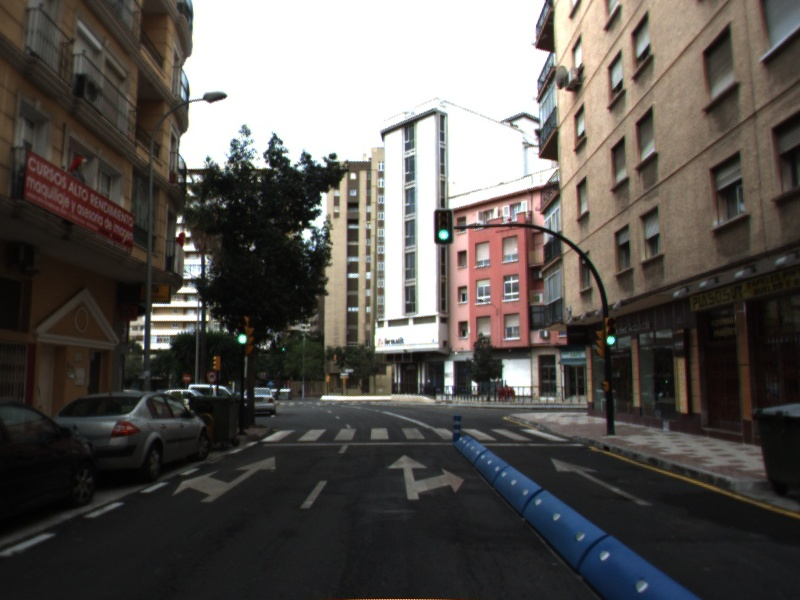STRAIGHT: (549, 456, 656, 508)
STRAIGHT_LEFT: (169, 453, 278, 504)
STRAIGHT_RIGHT: (385, 452, 467, 502)
